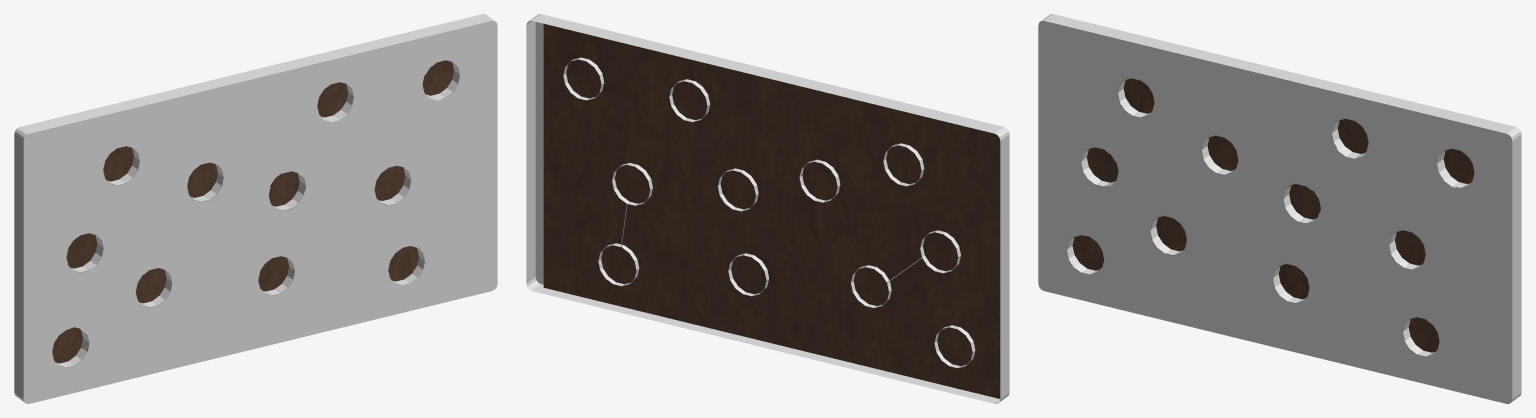
File: CheeseWall.fbx
The picture shows the model from 3 angles, left to right: view 1: azimuth 30°, elevation 25°; view 2: azimuth 150°, elevation 25°; view 3: azimuth 330°, elevation 25°; orthographic projection.
Parts seen in each view (by area): view 1: CheeseWall; view 2: CheeseWall; view 3: CheeseWall.
Part boxes in pixels (bbox=[...]): CheeseWall: bbox=[14, 14, 497, 403]; CheeseWall: bbox=[526, 14, 1009, 403]; CheeseWall: bbox=[1038, 14, 1521, 403].
Size of the model in its own units: 3.17 by 1.73 by 0.1081.
